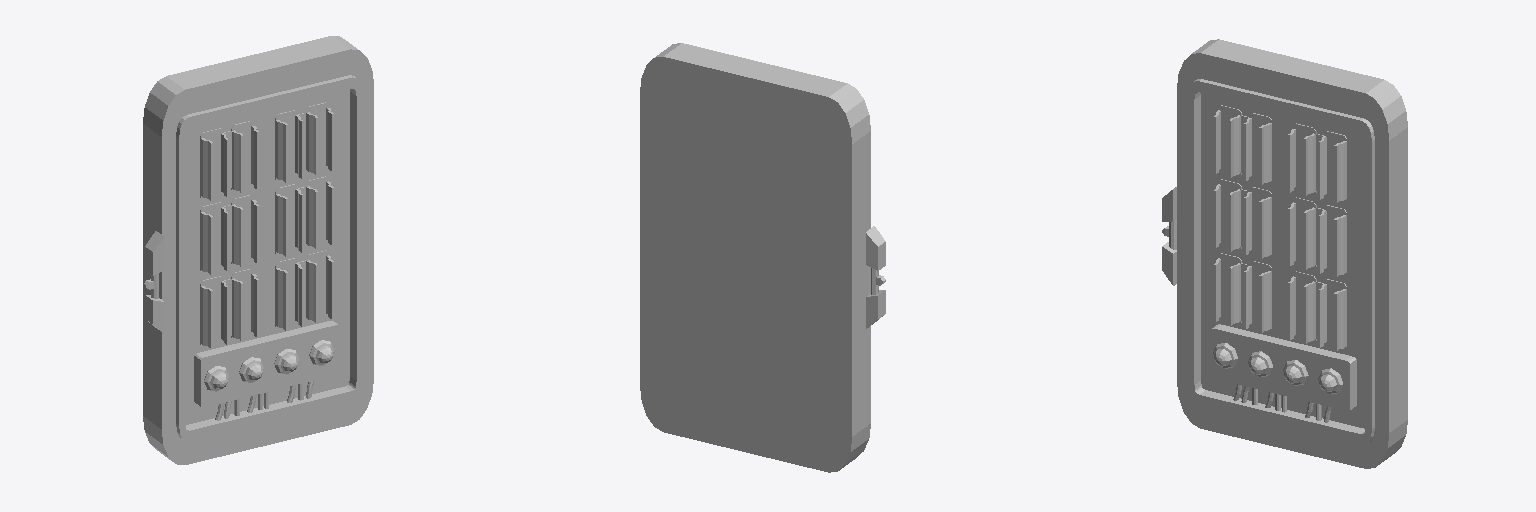
The model's file is boitierFusible.obj.
The picture shows the model from 3 angles: view 1: azimuth 30°, elevation 25°; view 2: azimuth 150°, elevation 25°; view 3: azimuth 330°, elevation 25°; orthographic projection.
Visible parts, largest first — view 1: atlasing; view 2: atlasing; view 3: atlasing.
Boxes of the visible parts, x1=… form: atlasing: x1=143, y1=36, x2=373, y2=464; atlasing: x1=640, y1=43, x2=885, y2=472; atlasing: x1=1162, y1=39, x2=1407, y2=468.
Bounding box in the file's own units: 0.487 × 0.768 × 0.1068.